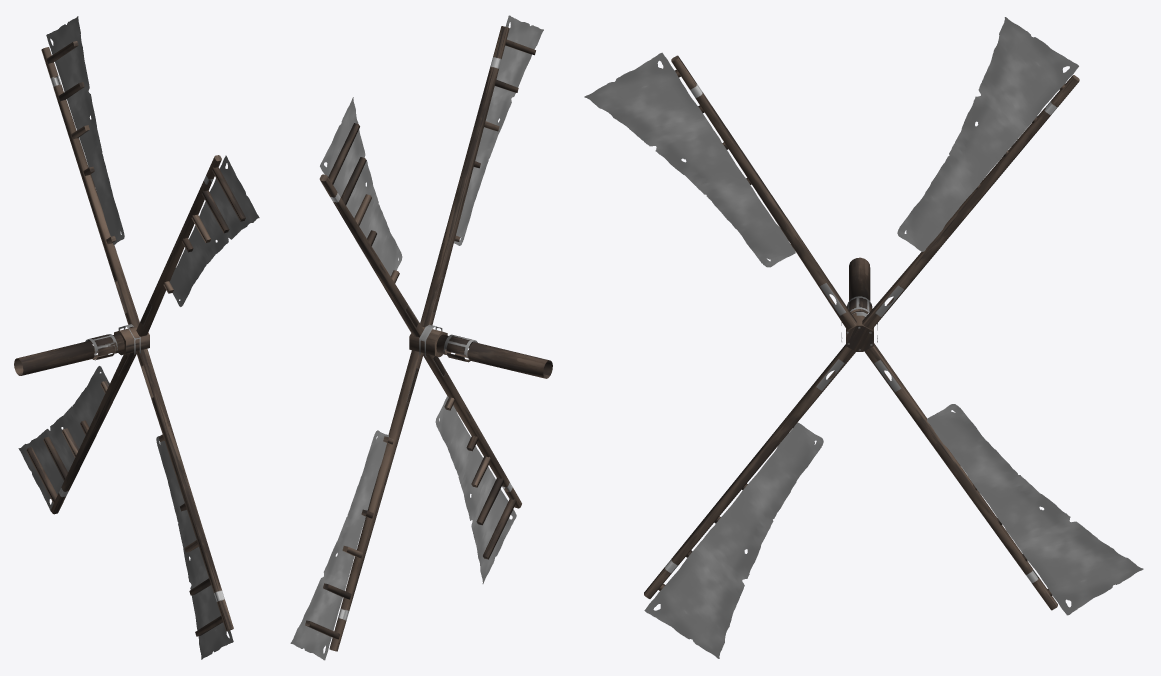
Rendered from SM_WindMill_Palms.fbx.
3 views of the same model, side by side, from view 1: azimuth 30°, elevation 25°; view 2: azimuth 150°, elevation 25°; view 3: azimuth 270°, elevation 25° (orthographic). The views are drawn at different scales.
Parts seen in each view (by area): view 1: SM_WindMill_Palms_LOD0; view 2: SM_WindMill_Palms_LOD0; view 3: SM_WindMill_Palms_LOD0.
Boxes of the visible parts, <box> form: SM_WindMill_Palms_LOD0: <box>14,16,259,659</box>; SM_WindMill_Palms_LOD0: <box>290,15,552,660</box>; SM_WindMill_Palms_LOD0: <box>584,17,1143,658</box>.
Bounding box in the file's own units: 669 × 2247 × 2841.
Materials: 1 (1 with a texture image).
